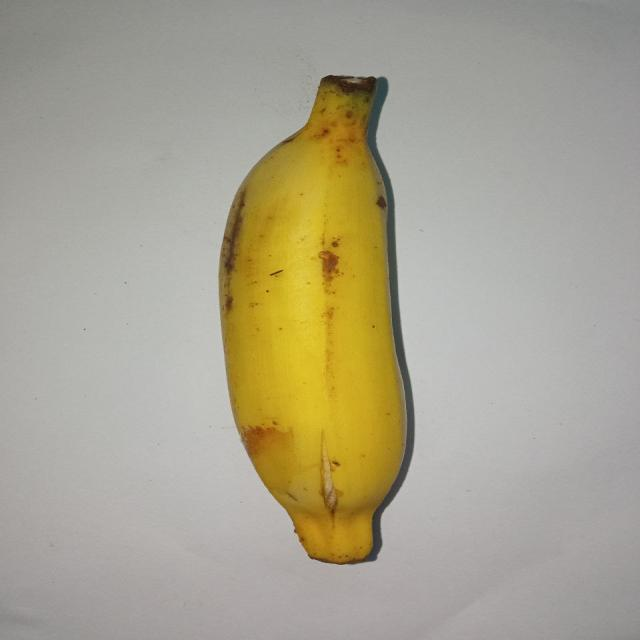fresh_banana: (219, 77, 406, 561)
